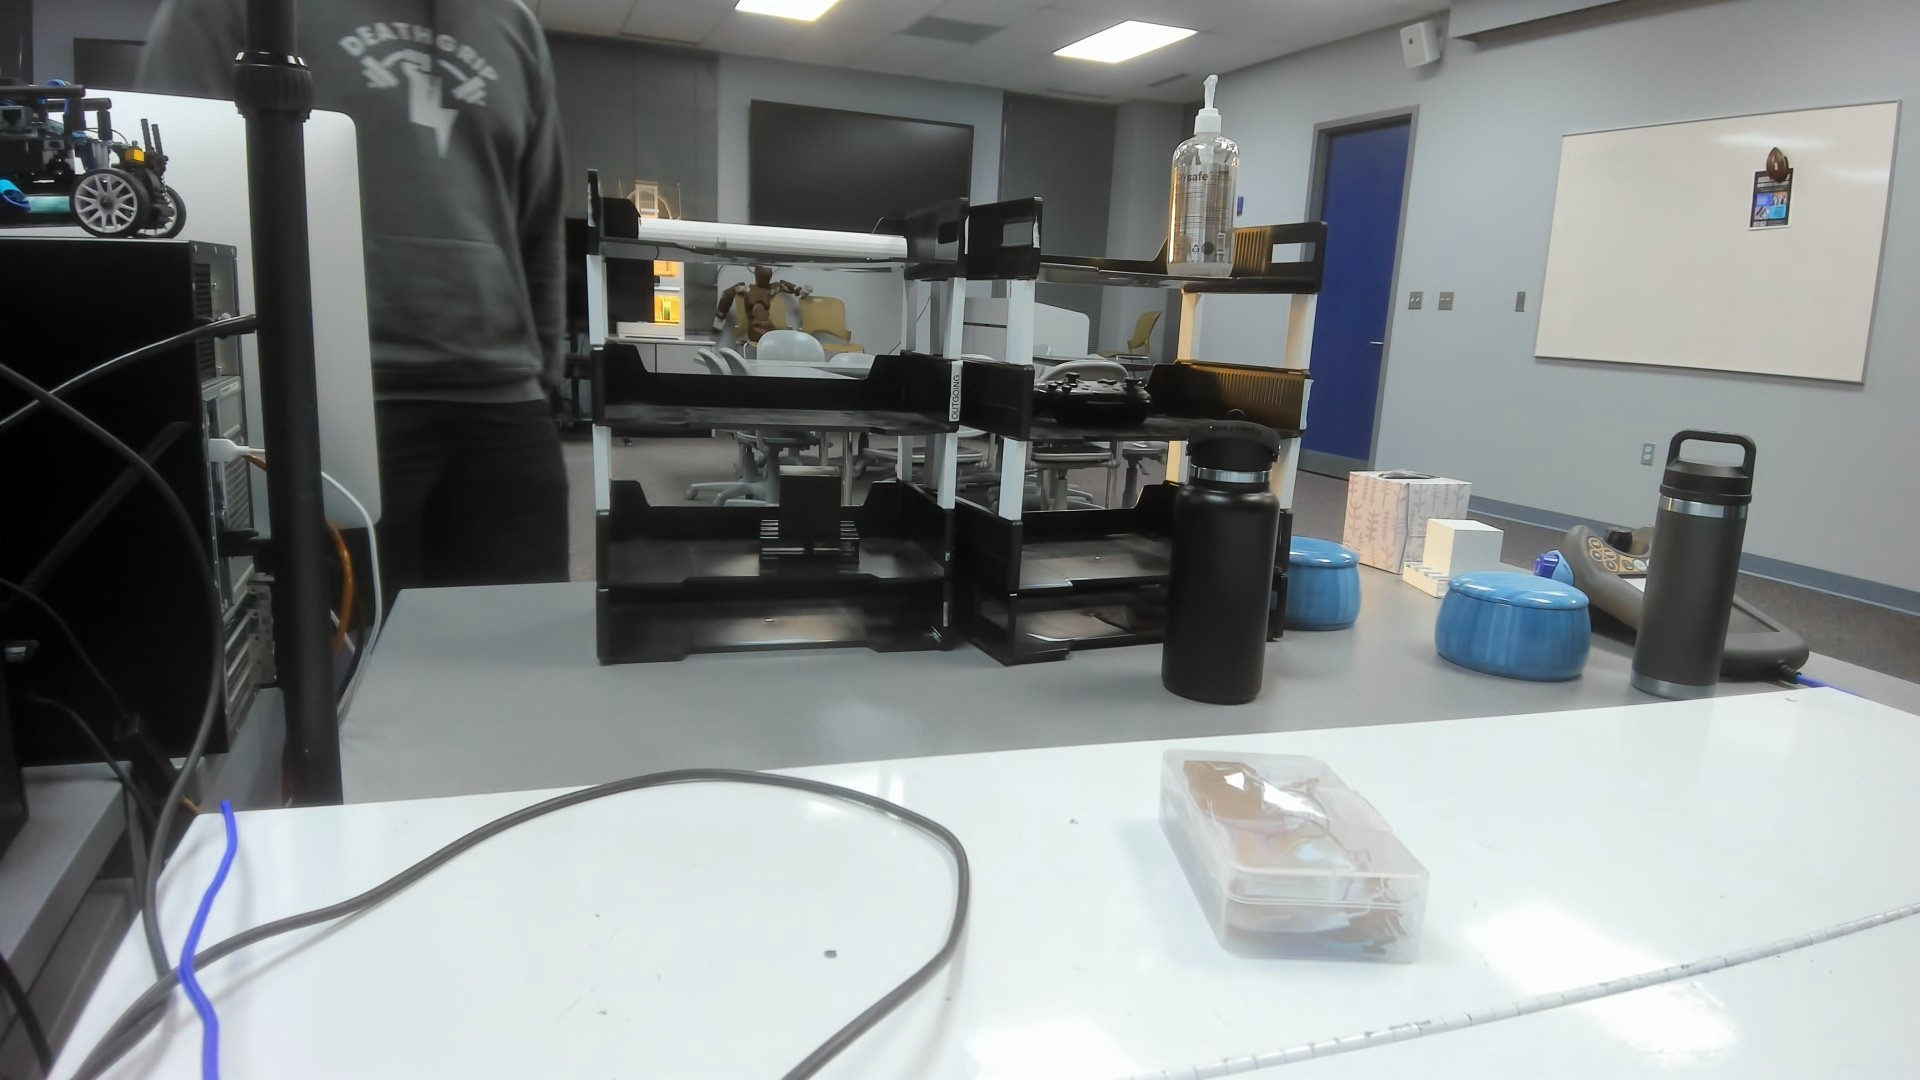black pallet: (752, 460, 868, 578)
white pallet: (1396, 513, 1509, 603)
